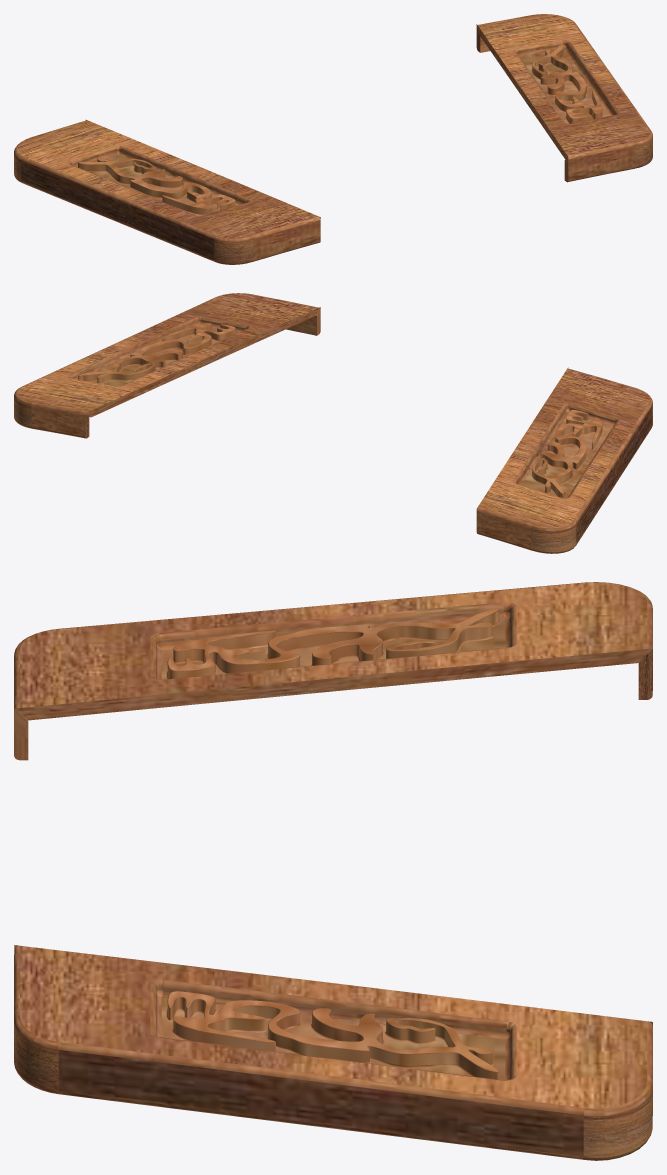
File: gaiban.fbx
3 views of the same model, one above another, from view 1: azimuth 30°, elevation 25°; view 2: azimuth 150°, elevation 25°; view 3: azimuth 270°, elevation 25° (orthographic). The views are drawn at different scales.
Visible parts, largest first — view 1: 右盖板, 左盖板; view 2: 右盖板, 左盖板; view 3: 左盖板, 右盖板.
Boxes of the visible parts, x1,y1,x2,y2 form: 右盖板: (14, 120, 320, 264); 左盖板: (476, 14, 652, 182); 右盖板: (476, 367, 652, 553); 左盖板: (14, 293, 320, 438); 左盖板: (14, 945, 652, 1160); 右盖板: (14, 582, 652, 760).
Size of the model in its own units: 88.53 by 5.48 by 45.01.
1 material, 1 textured.
